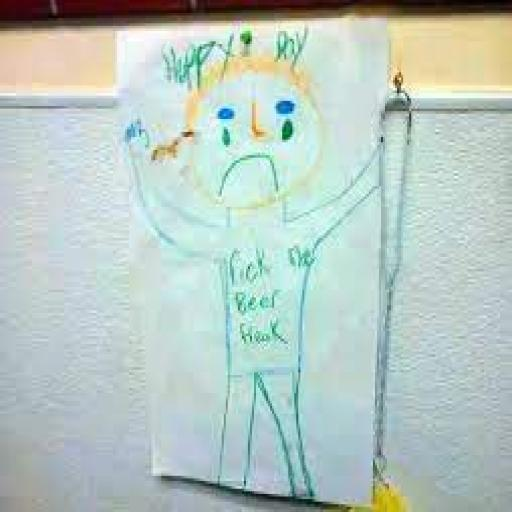person: (122, 16, 380, 496)
